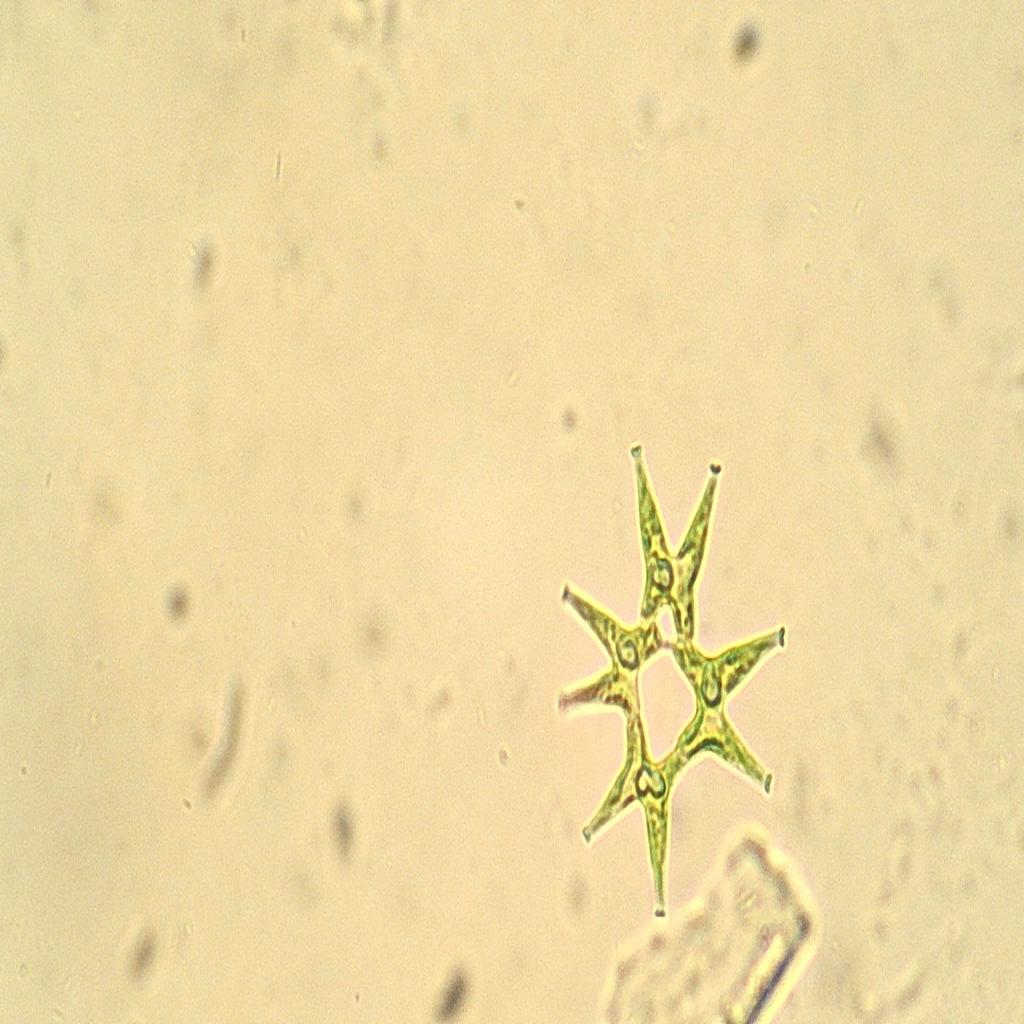Pediastrum_CF: (536, 429, 792, 925)
